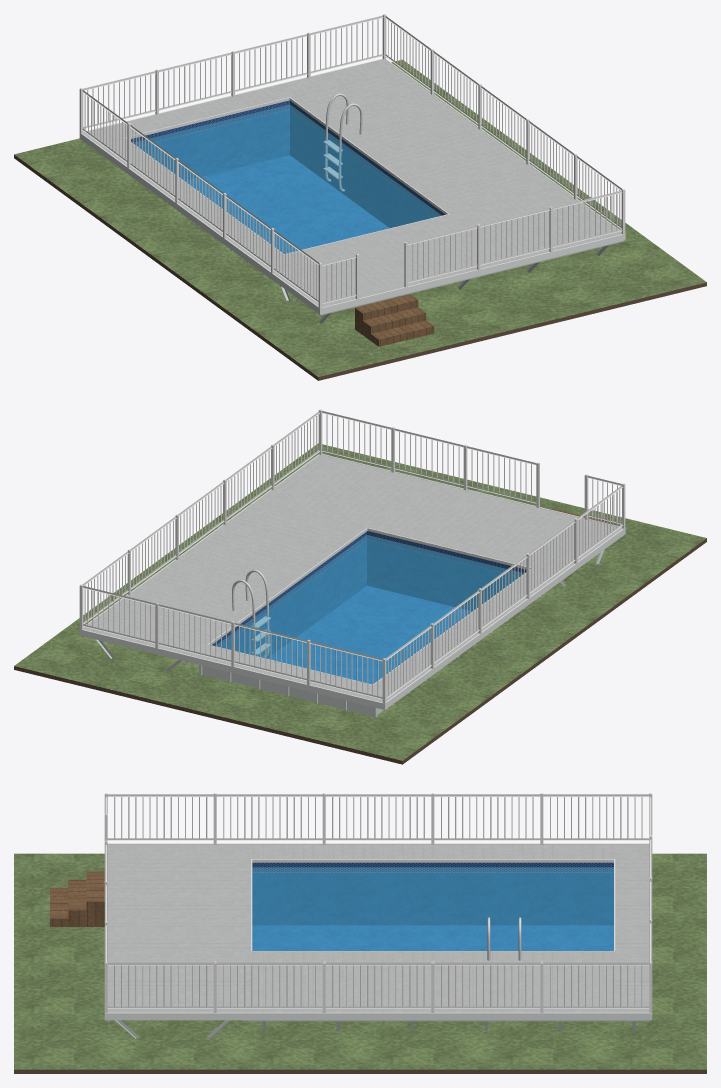
Rendered from kayak-pool-12x20-white-endside-rec-fence.4b2be92800.glb.
3 views of the same model, one above another, from view 1: azimuth 30°, elevation 25°; view 2: azimuth 150°, elevation 25°; view 3: azimuth 270°, elevation 25° (orthographic). The views are drawn at different scales.
Visible parts, largest first — view 1: deck, ground, fence, water, liner_wall, liner_floor, fascia, soil, steps, steel, stud; view 2: deck, ground, fence, water, liner_wall, liner_floor, fascia, soil, wall, steel; view 3: ground, deck, water, liner_wall, fence, liner_floor, fascia, soil, steps, stud.
Boxes of the visible parts, x1,y1,x2,y2 form: deck: (82, 59, 621, 307); ground: (14, 59, 706, 376); fence: (79, 14, 625, 308); water: (134, 104, 441, 253); liner_wall: (131, 100, 445, 227); liner_floor: (185, 155, 389, 253); fascia: (79, 58, 625, 314); soil: (14, 154, 706, 380); steps: (355, 294, 434, 346); steel: (323, 93, 362, 191); stud: (259, 241, 623, 323); deck: (83, 454, 622, 702); ground: (14, 443, 706, 760); fence: (79, 409, 625, 703); water: (216, 535, 523, 683); liner_wall: (211, 531, 526, 658); liner_floor: (267, 586, 472, 684); fascia: (79, 454, 625, 709); soil: (14, 538, 706, 764); wall: (202, 665, 383, 716); steel: (232, 569, 270, 657); ground: (14, 853, 706, 1069); deck: (107, 844, 649, 1012); water: (252, 867, 613, 950); liner_wall: (252, 862, 613, 925); fence: (104, 793, 652, 1012); liner_floor: (252, 925, 613, 950); fascia: (104, 843, 652, 1020); soil: (14, 1069, 706, 1073); steps: (50, 871, 104, 926); stud: (106, 1020, 650, 1038).
Size of the model in its own units: 8.53 by 2.15 by 11.57.
13 materials, 5 textured.
